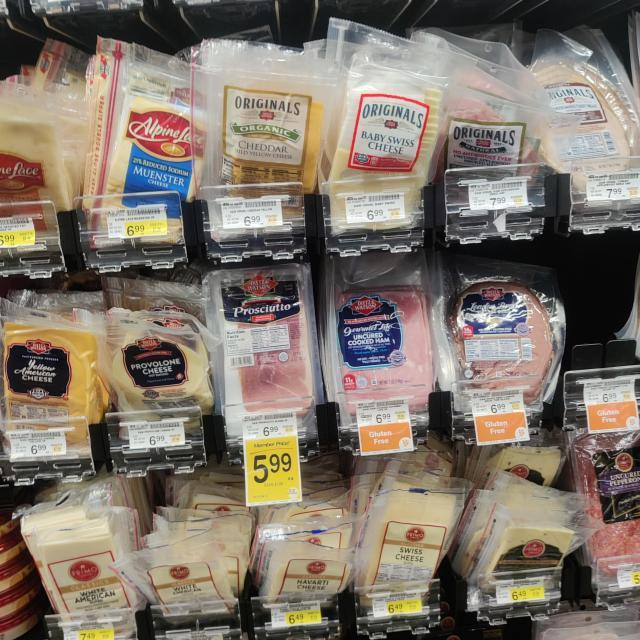Cheese: (206, 61, 330, 210), (324, 66, 440, 214), (92, 80, 206, 225), (18, 496, 140, 623), (0, 305, 102, 452), (101, 304, 224, 424), (138, 492, 248, 622), (374, 469, 461, 601), (478, 492, 579, 602), (266, 526, 352, 624)
Meat: (450, 264, 568, 424), (328, 272, 443, 424), (219, 271, 322, 425), (531, 51, 640, 176), (570, 404, 640, 572), (445, 82, 545, 198)
